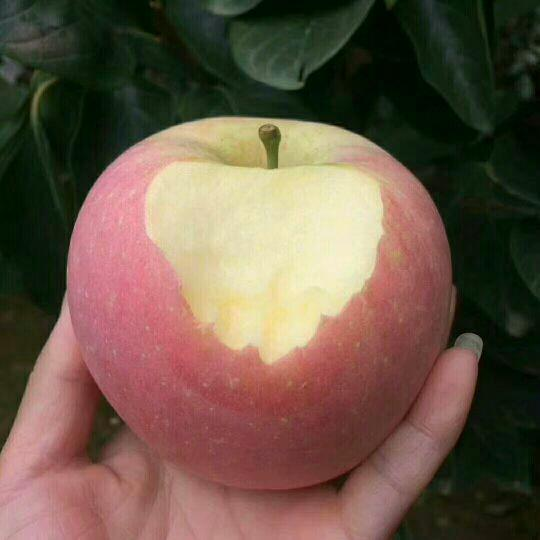apple: (68, 111, 466, 511)
